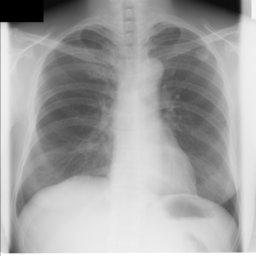left lobe: (149, 23, 237, 218)
right lobe: (16, 26, 117, 214)
